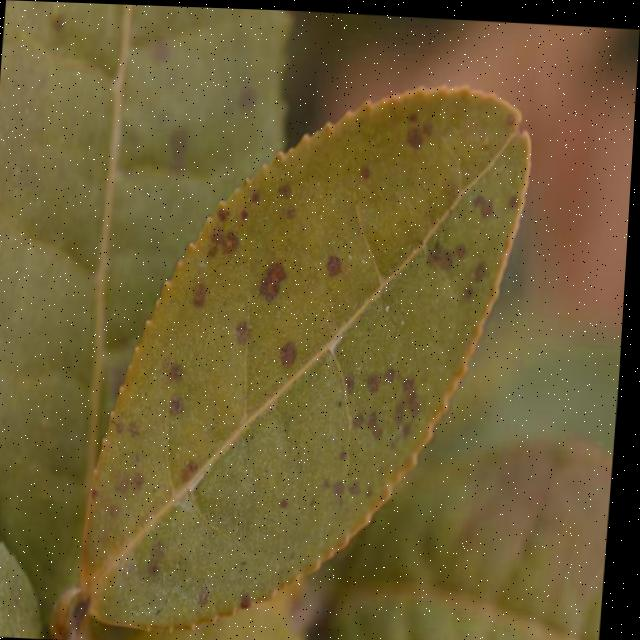Tea red scab: (119, 101, 519, 614)
